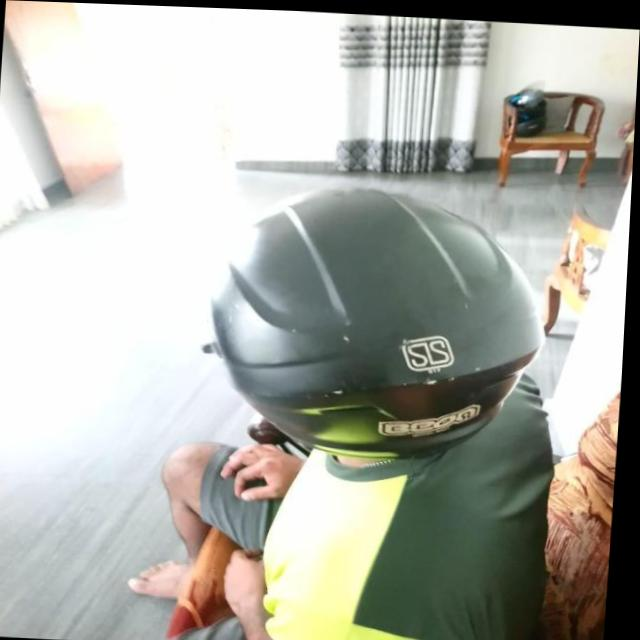helmet: (201, 173, 557, 464)
